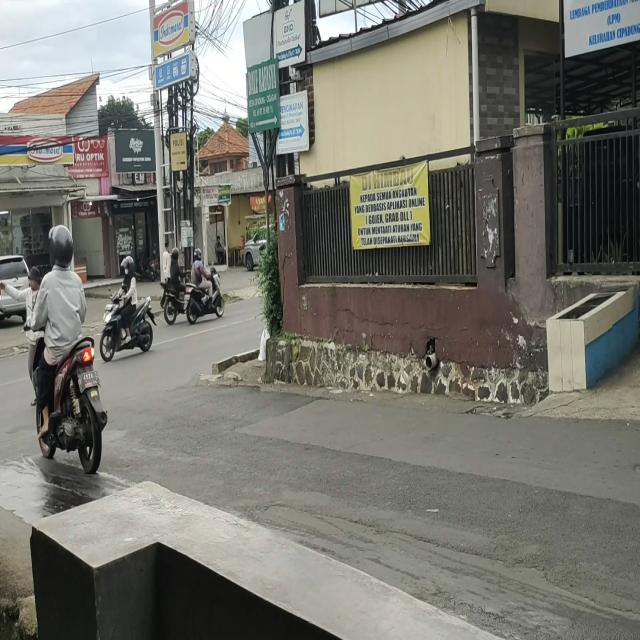helmet: (51, 224, 74, 272), (121, 256, 135, 284), (190, 249, 202, 263), (172, 249, 180, 263)
